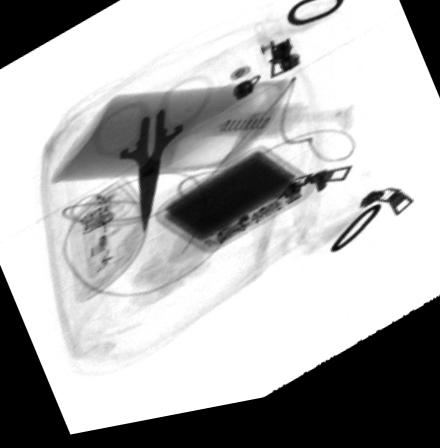Powerbank: (153, 158, 320, 262)
Scissors: (90, 82, 216, 243)
